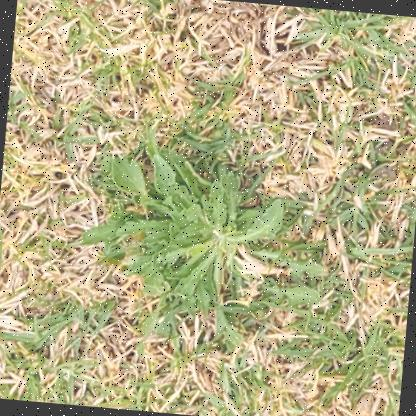Weeds: (76, 147, 336, 352)
